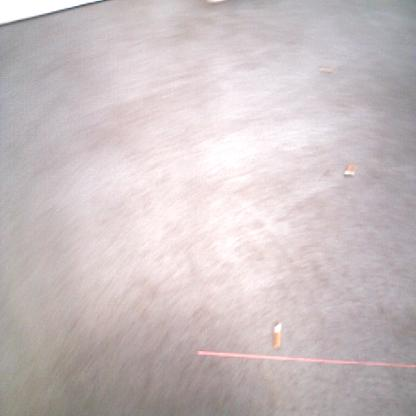dirty: (272, 322, 282, 350), (343, 163, 358, 178), (318, 66, 333, 74)
